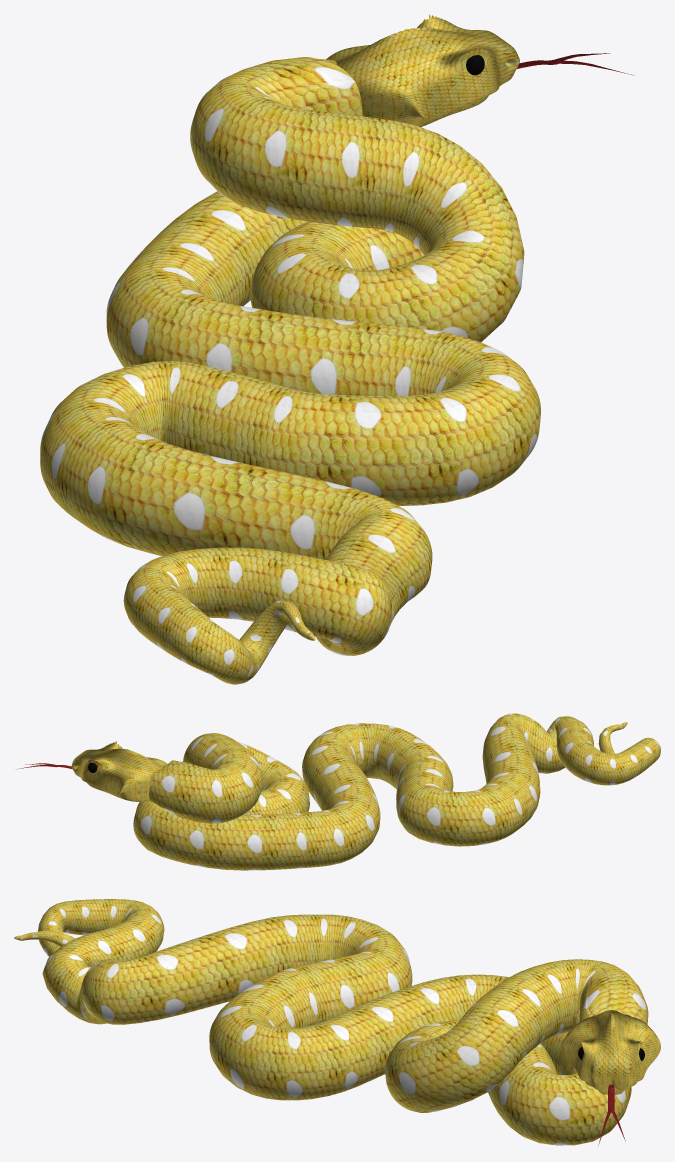
File: snake.glb
The picture shows the model from 3 angles, top to bottom: view 1: azimuth 30°, elevation 25°; view 2: azimuth 150°, elevation 25°; view 3: azimuth 270°, elevation 25°; orthographic projection. The views are drawn at different scales.
Visible parts, largest first — view 1: Snake; view 2: Snake; view 3: Snake.
Boxes of the visible parts, left/top/right/bottom form: Snake: left=40, top=14, right=634, bottom=684; Snake: left=17, top=713, right=660, bottom=870; Snake: left=14, top=899, right=660, bottom=1145.
Bounding box in the file's own units: 18.08 × 4.44 × 17.73.
Materials: 4 (2 with a texture image).
